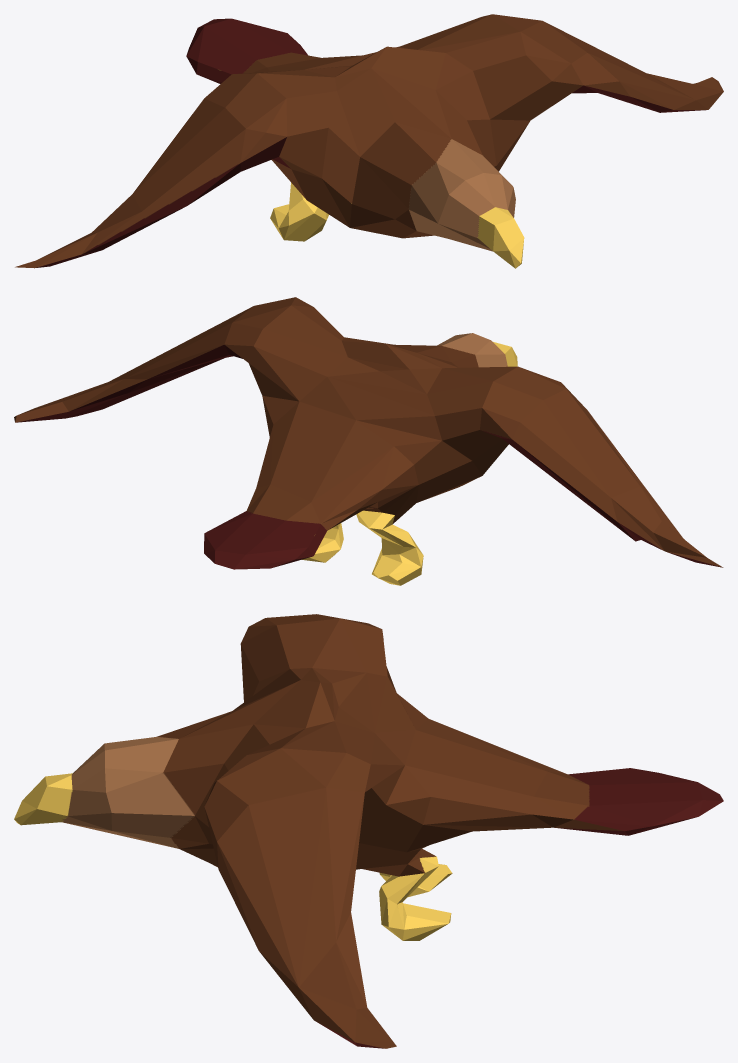
Rendered from aguila.obj.
The picture shows the model from 3 angles, top to bottom: view 1: azimuth 30°, elevation 25°; view 2: azimuth 150°, elevation 25°; view 3: azimuth 270°, elevation 25°; orthographic projection. The views are drawn at different scales.
Parts seen in each view (by area): view 1: aguila.001_Cube.001; view 2: aguila.001_Cube.001; view 3: aguila.001_Cube.001.
Boxes of the visible parts, left/top/right/bottom form: aguila.001_Cube.001: left=15, top=14, right=723, bottom=268; aguila.001_Cube.001: left=14, top=297, right=723, bottom=585; aguila.001_Cube.001: left=14, top=614, right=723, bottom=1048.
Bounding box in the file's own units: 458 × 125 × 339.
1 material, 1 textured.
